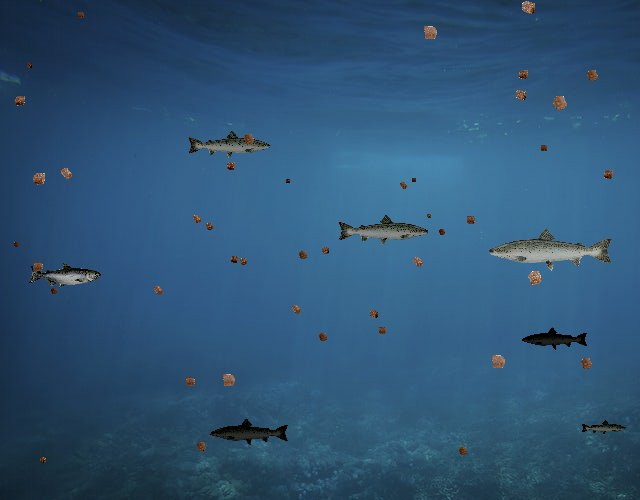Fish: (486, 226, 615, 272), (337, 214, 431, 248), (186, 129, 272, 160), (209, 417, 290, 446), (29, 263, 102, 289), (522, 327, 590, 351), (581, 419, 628, 436)
Pellet: (54, 161, 79, 186), (574, 352, 598, 376), (453, 442, 472, 461), (36, 453, 50, 467), (23, 59, 35, 71)
